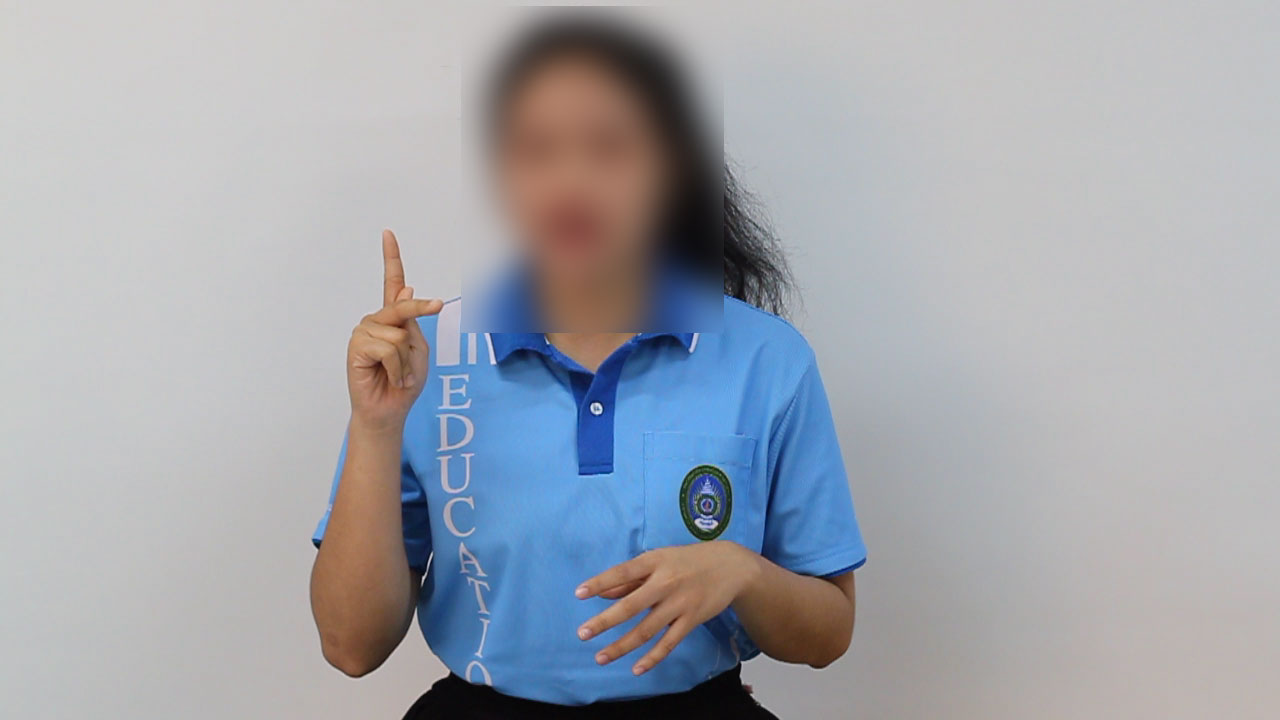ko: (308, 227, 466, 423)
